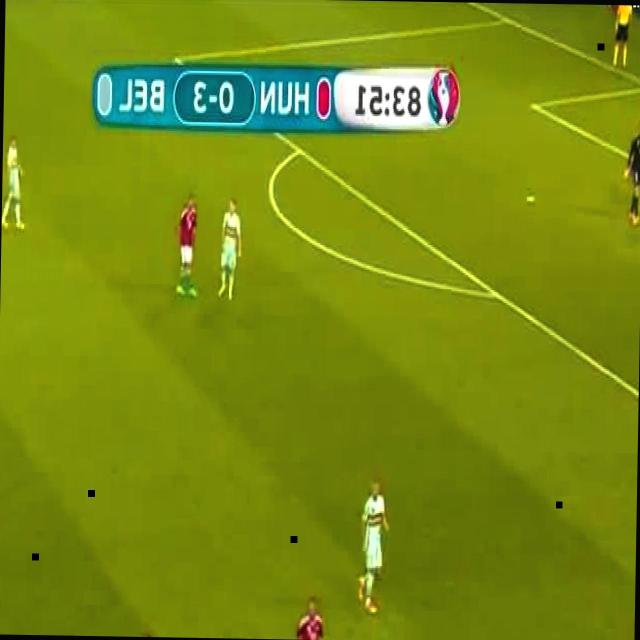player-white: (356, 481, 389, 617), (1, 135, 27, 231), (218, 197, 242, 299), (177, 195, 200, 298), (623, 115, 640, 225), (284, 595, 325, 640), (614, 5, 632, 66), (124, 627, 157, 637)
